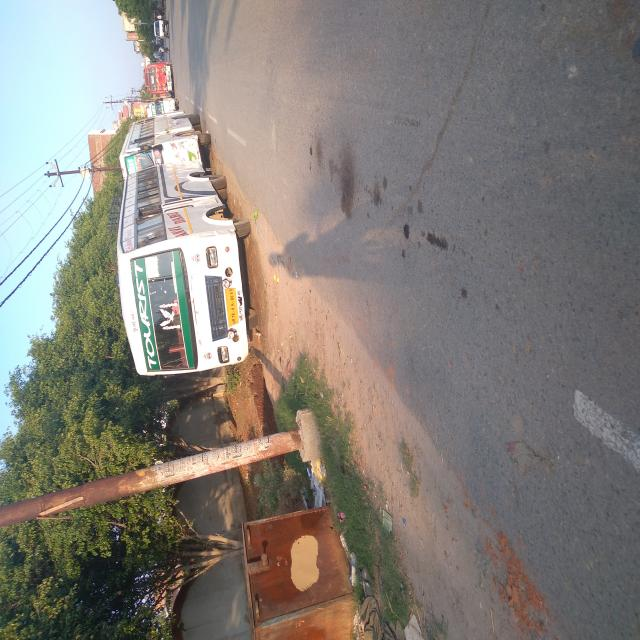Bus: (181, 153, 362, 346)
